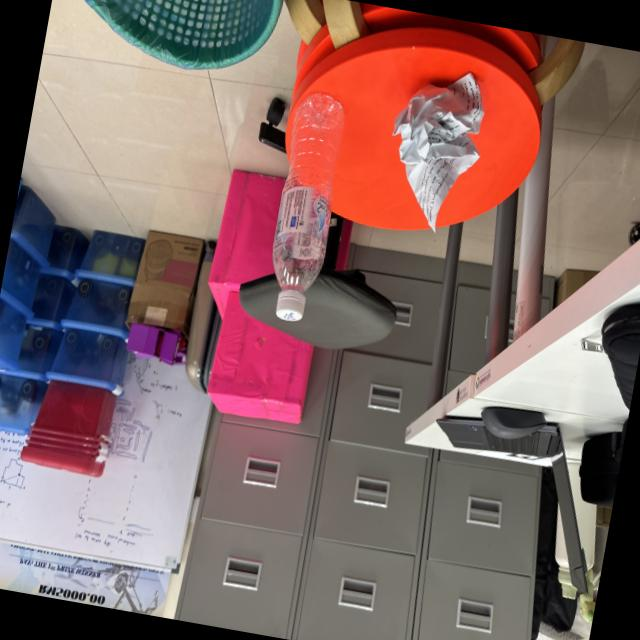crumpled_paper: (372, 50, 498, 244)
plastic_bottle: (250, 79, 358, 334)
